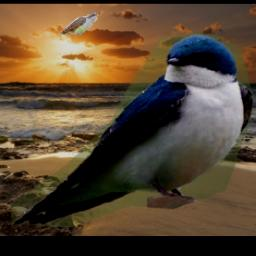Cuckoo: (60, 13, 102, 36)
Swallow: (11, 33, 253, 227)
